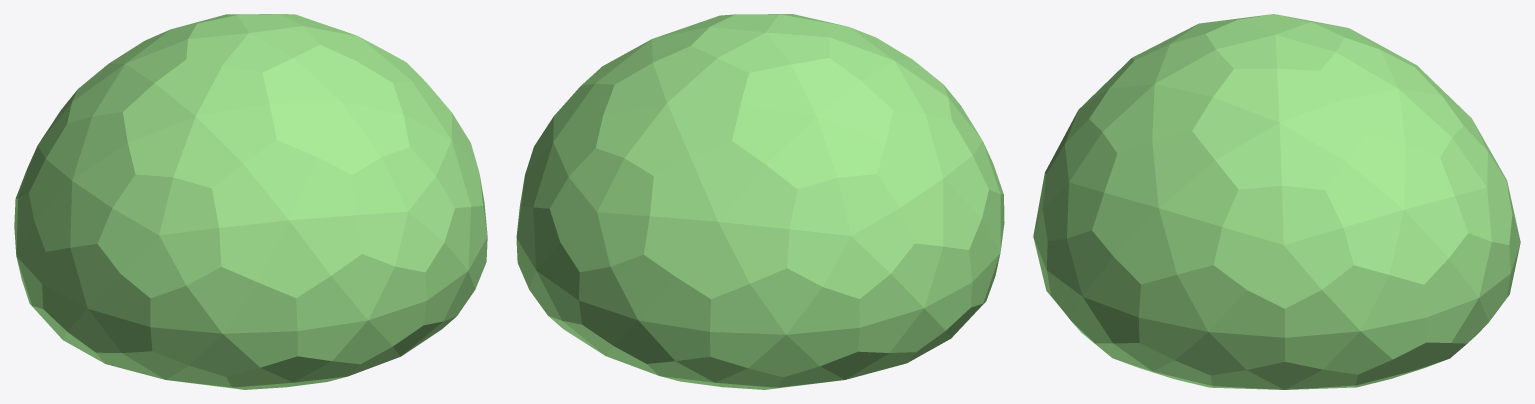
The model's file is SlimeModel.fbx.
3 views of the same model, side by side, from view 1: azimuth 30°, elevation 25°; view 2: azimuth 150°, elevation 25°; view 3: azimuth 270°, elevation 25° (orthographic).
Visible parts, largest first — view 1: Slime; view 2: Slime; view 3: Slime.
Part boxes in pixels (x1,y1,x2,y2): Slime: (14, 14, 487, 389); Slime: (516, 14, 1004, 389); Slime: (1033, 14, 1520, 389).
Size of the model in its own units: 187 by 126 by 186.
